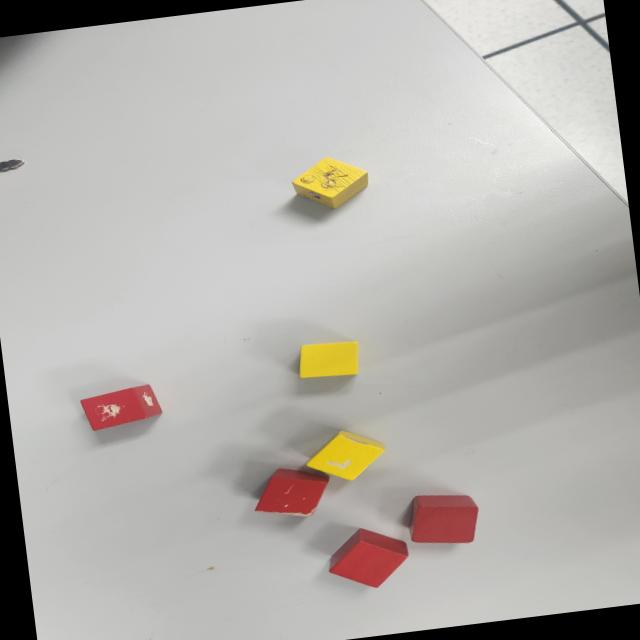broken: (302, 424, 389, 486), (288, 150, 372, 214), (250, 462, 334, 520), (78, 382, 164, 432)
red: (322, 522, 412, 594), (404, 488, 484, 551)
yellow: (295, 338, 362, 380)
